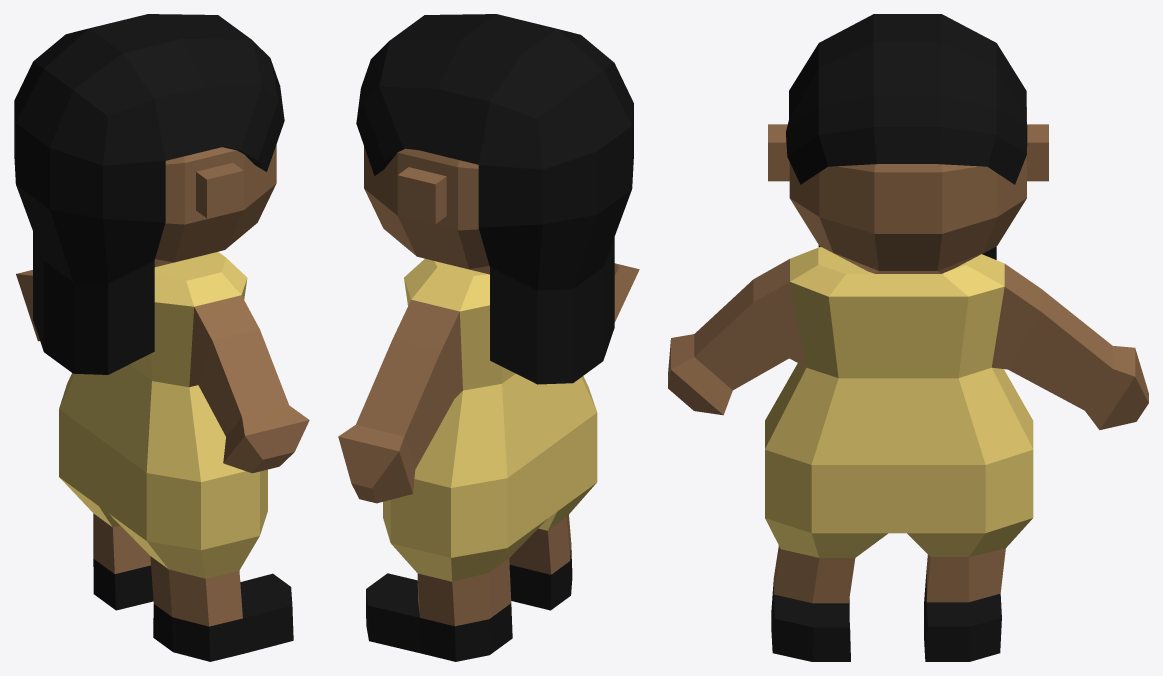
File: doll.fbx
3 renders of one model, left to right at view 1: azimuth 30°, elevation 25°; view 2: azimuth 150°, elevation 25°; view 3: azimuth 270°, elevation 25°, orthographic. The views are drawn at different scales.
Visible parts, largest first — view 1: girl; view 2: girl; view 3: girl.
Boxes of the visible parts, left/top/right/bottom form: girl: left=14, top=14, right=309, bottom=661; girl: left=338, top=14, right=639, bottom=661; girl: left=668, top=14, right=1148, bottom=661.
Size of the model in its own units: 145 by 346 by 259.
